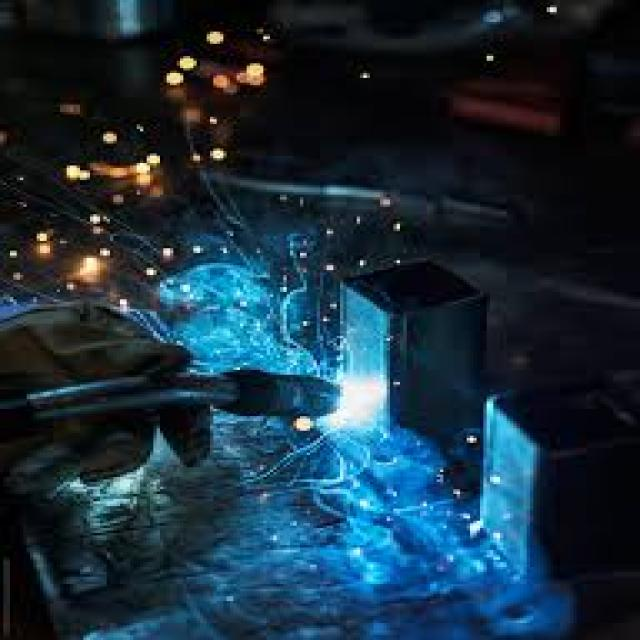welding: (341, 379, 374, 418)
